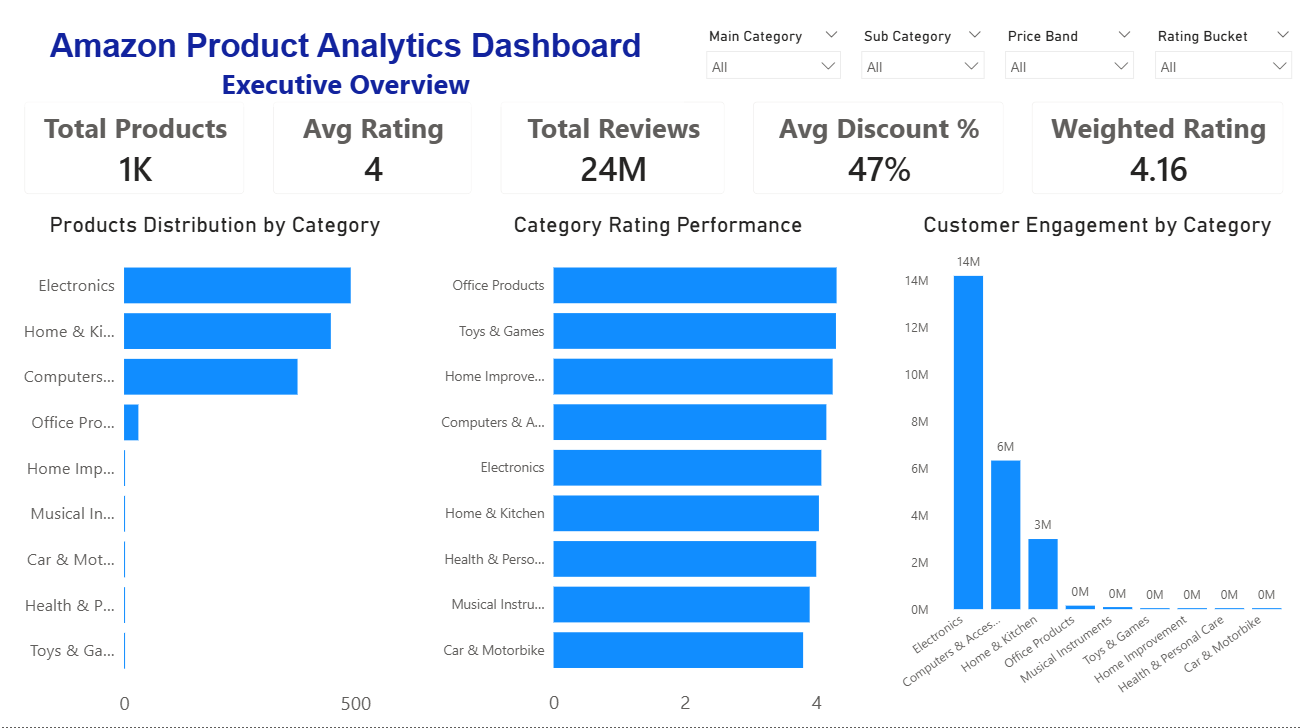

What the dashboard file says about the page in this screenshot:
{"tool":"powerbi","page":{"name":"Executive Overview","canvas":[1280,720],"ordinal":0},"visuals":[{"type":"cardVisual","fields":{"Data":["Table.Total Products"]},"box":[10,89.6,250.4,125.2],"z":0},{"type":"cardVisual","fields":{"Data":["Table.Avg Rating"]},"box":[253.9,89.6,229,125.2],"z":1000},{"type":"cardVisual","fields":{"Data":["Table.Total Reviews"]},"box":[476.6,89.6,254.6,125.2],"z":2000},{"type":"cardVisual","fields":{"Data":["Table.Avg Discount %"]},"box":[724.8,89.6,280.2,125.2],"z":3000},{"type":"cardVisual","fields":{"Data":["Table.Weighted Rating"]},"box":[998.3,89.6,281.7,125.2],"z":4000},{"type":"barChart","title":"Products Distribution by Category","fields":{"Y":["Table.Total Products"],"Category":["FactProducts.main_category"]},"box":[10,214.8,408.3,505],"z":5000},{"type":"clusteredBarChart","title":"Category Rating Performance","fields":{"Category":["FactProducts.main_category"],"Y":["Table.Avg Rating"]},"box":[417.9,214.9,461.1,504.3],"z":6000},{"type":"clusteredColumnChart","title":"Customer Engagement by Category","fields":{"Category":["FactProducts.main_category"],"Y":["Table.Total Reviews"]},"box":[879.1,214.8,401.2,505],"z":7000},{"type":"slicer","fields":{"Values":["FactProducts.main_category"]},"box":[685.7,28.5,152.2,61.2],"z":8000},{"type":"slicer","fields":{"Values":["FactProducts.sub_category"]},"box":[837.8,28.5,140.8,61.2],"z":9000},{"type":"slicer","fields":{"Values":["FactProducts.Price Band"]},"box":[978.5,28.5,146.5,61.2],"z":10000},{"type":"slicer","fields":{"Values":["FactProducts.rating_bucket"]},"box":[1124.9,28.5,155.1,61.2],"z":11000},{"type":"textbox","box":[9.6,28.8,664.2,82.3],"z":12000}]}

Visuals, with their boxes in screenshot pixels (x1, y1, x2, y2), scaled from the page's 1280x720 canvas onto the 1302x728 screenshot:
cardVisual - Table.Total Products: [10,91,265,217]
cardVisual - Table.Avg Rating: [258,91,491,217]
cardVisual - Table.Total Reviews: [485,91,744,217]
cardVisual - Table.Avg Discount %: [737,91,1022,217]
cardVisual - Table.Weighted Rating: [1015,91,1301,217]
"Products Distribution by Category" barChart: [10,217,425,727]
"Category Rating Performance" clusteredBarChart: [425,217,894,727]
"Customer Engagement by Category" clusteredColumnChart: [894,217,1301,727]
slicer - FactProducts.main_category: [697,29,852,91]
slicer - FactProducts.sub_category: [852,29,995,91]
slicer - FactProducts.Price Band: [995,29,1144,91]
slicer - FactProducts.rating_bucket: [1144,29,1301,91]
textbox: [10,29,685,112]
